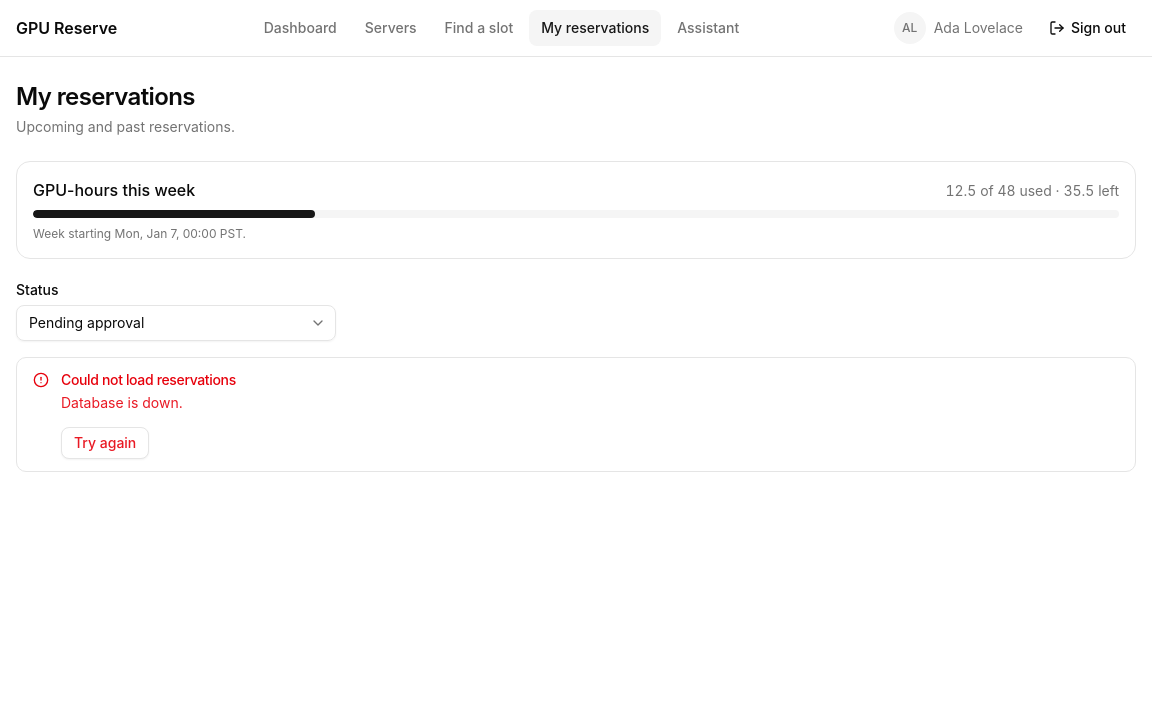
it: my reservations page › shows empty, filtered-empty, and error states
This screenshot has width=1152, height=720.
Check: the text "Could not load reservations" is shown, box top-left (61, 371), bottom-right (236, 388)
Step 1. Click the button "Try again" → click(105, 443), box top-left (61, 427), bottom-right (149, 459)
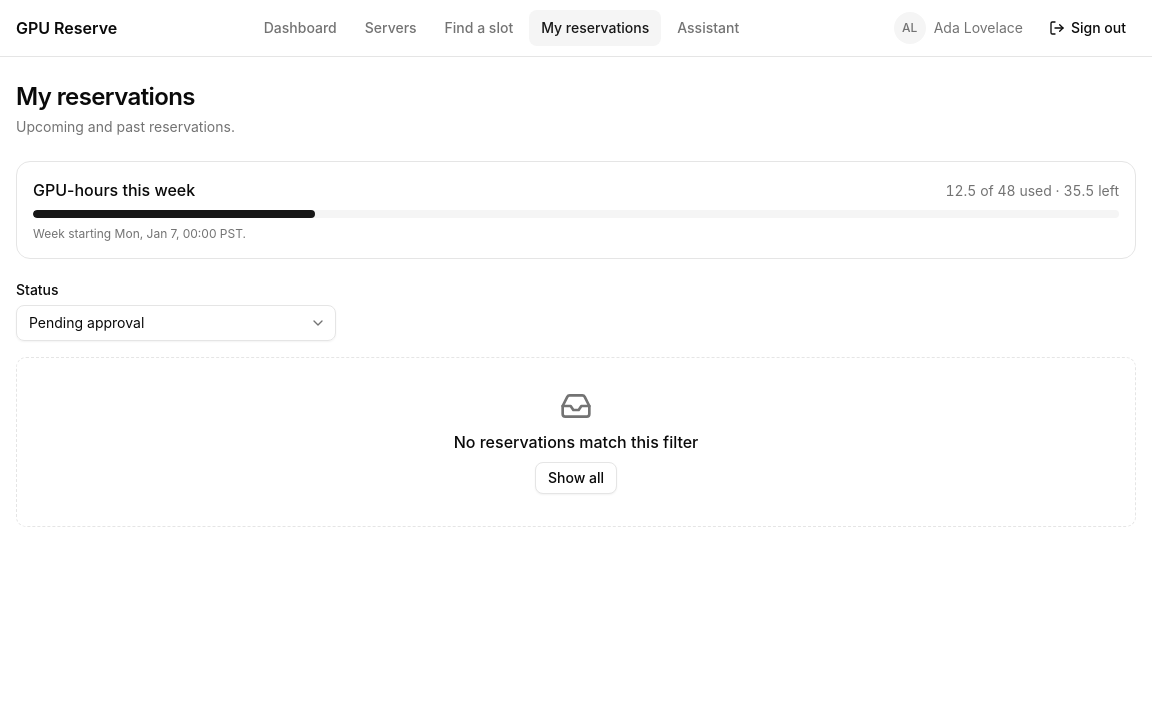
Check: the text "No reservations match this filter" is shown, box top-left (454, 430), bottom-right (698, 454)
Step 2. Click the button "Show all" → click(576, 478), box top-left (535, 462), bottom-right (617, 494)
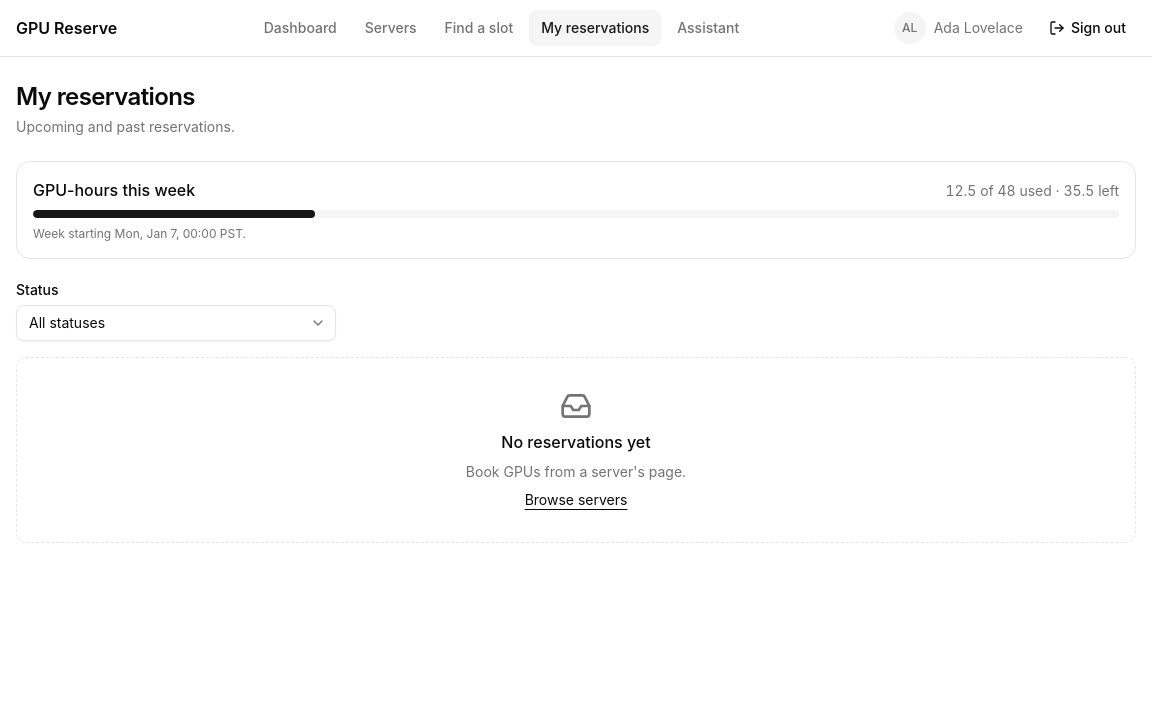
Check: the text "No reservations yet" is shown, box top-left (501, 430), bottom-right (651, 454)
